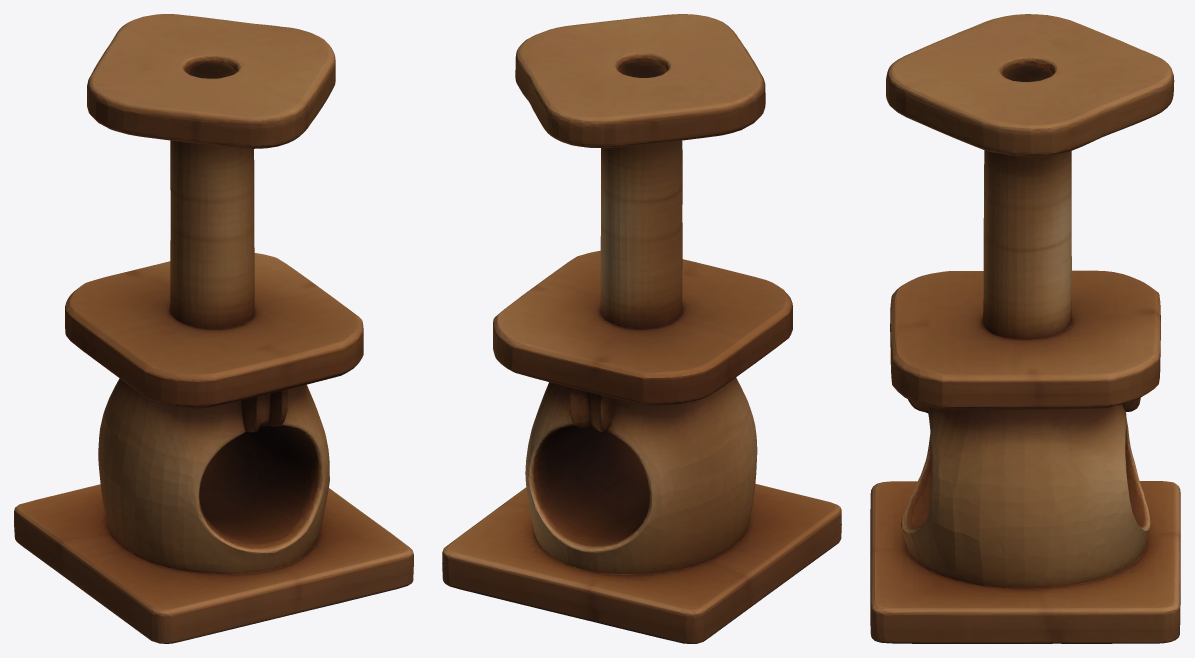
The model's file is item_cat_bed.glb.
The picture shows the model from 3 angles, left to right: view 1: azimuth 30°, elevation 25°; view 2: azimuth 150°, elevation 25°; view 3: azimuth 270°, elevation 25°; orthographic projection. The views are drawn at different scales.
Parts seen in each view (by area): view 1: geometry_0; view 2: geometry_0; view 3: geometry_0.
Part boxes in pixels (bbox=[...]): geometry_0: bbox=[14, 14, 413, 643]; geometry_0: bbox=[442, 14, 841, 643]; geometry_0: bbox=[870, 14, 1180, 643].
Bounding box in the file's own units: 0.5512 × 0.9999 × 0.5515.
Materials: 1 (1 with a texture image).
